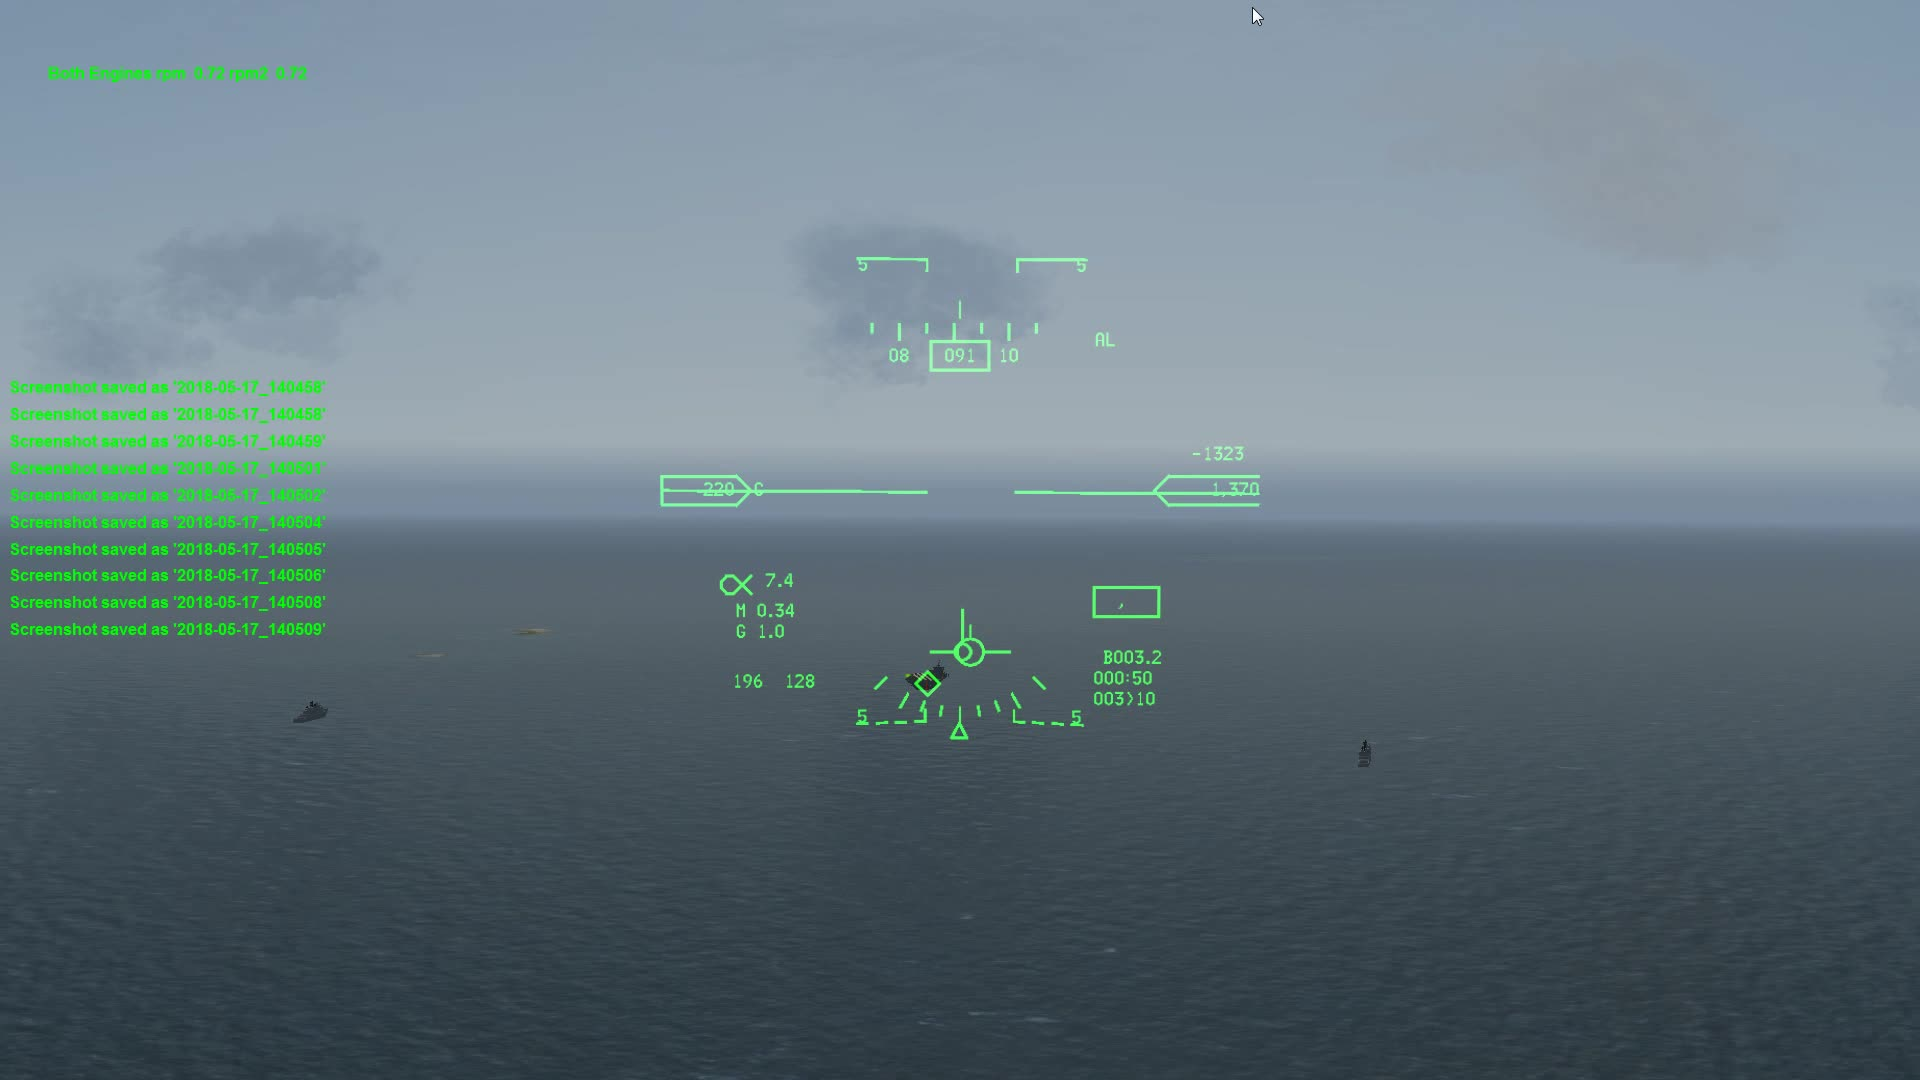speed vector: (916, 595, 1025, 673)
